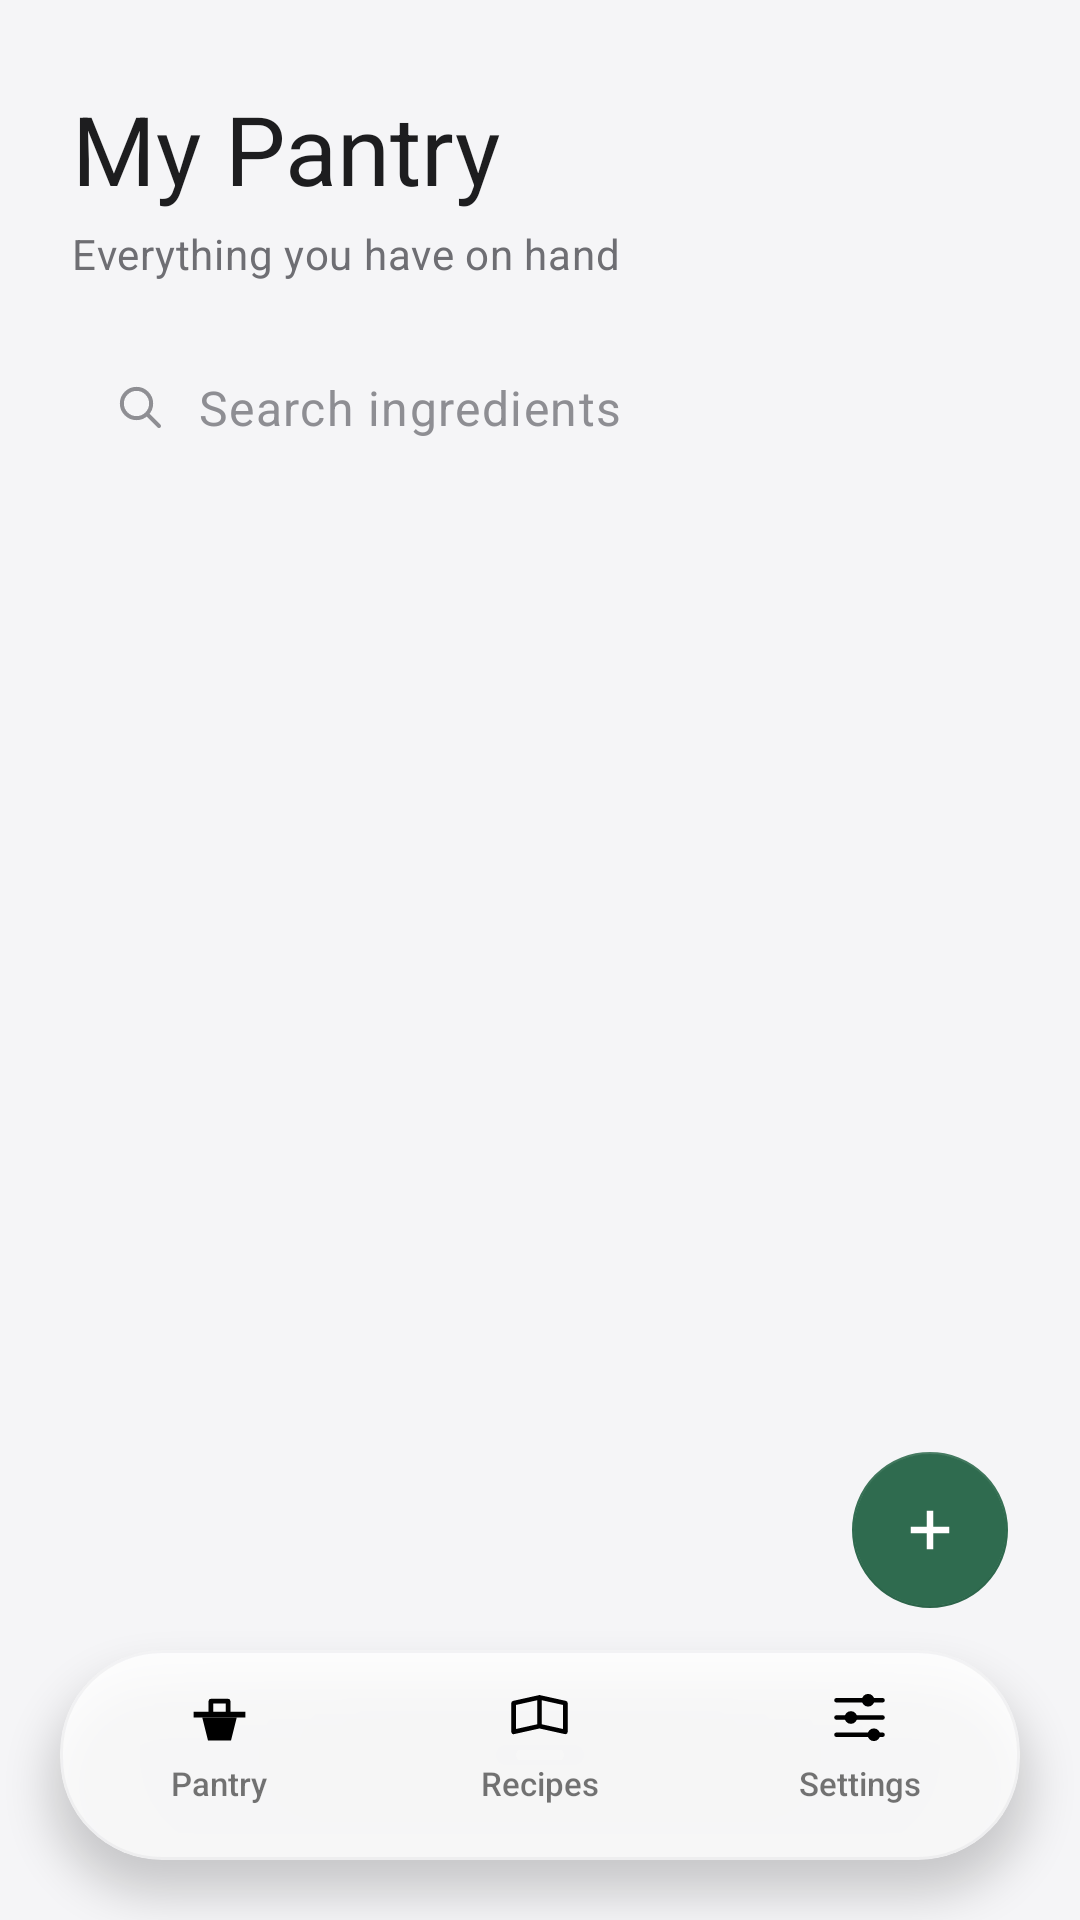

Point at icon controls on the screen. Image size 1080w x 1920h, points as point (x, y).
Add: point (930, 1530)
